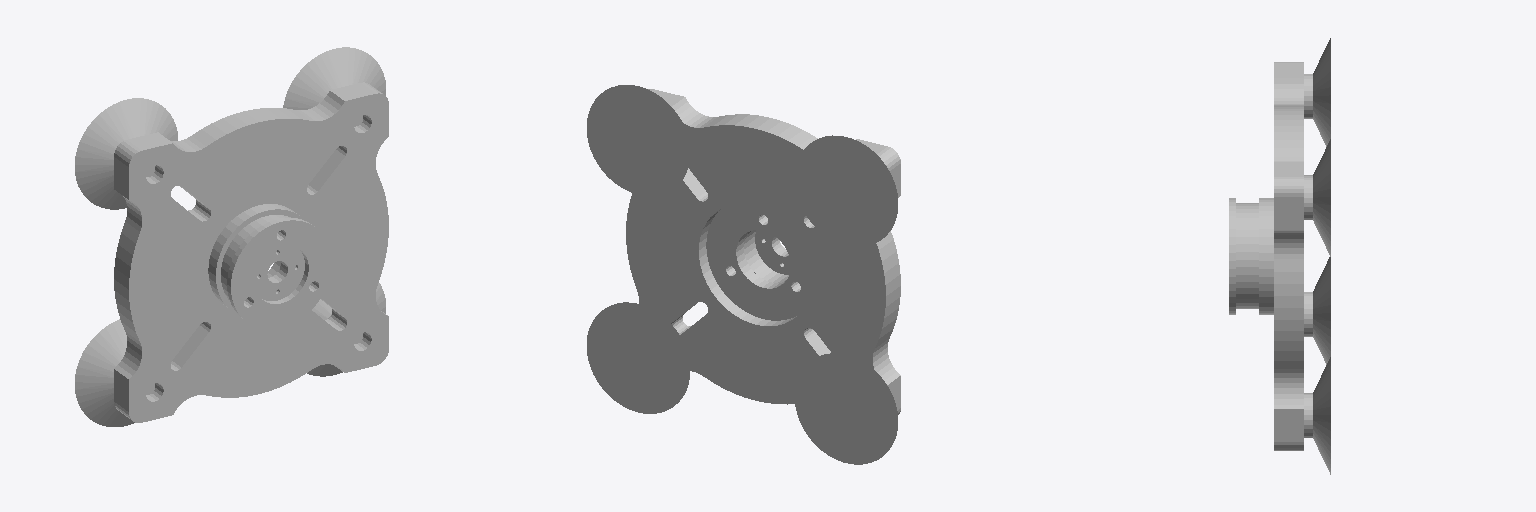
3 views of the same model, side by side, from view 1: azimuth 30°, elevation 25°; view 2: azimuth 150°, elevation 25°; view 3: azimuth 270°, elevation 25° (orthographic).
Parts seen in each view (by area): view 1: base; view 2: base; view 3: base.
Part boxes in pixels (x1,y1,x2,y2): base: (75, 47, 388, 426); base: (587, 85, 900, 464); base: (1229, 38, 1330, 474).
Bounding box in the file's own units: 12 × 12 × 3.4.